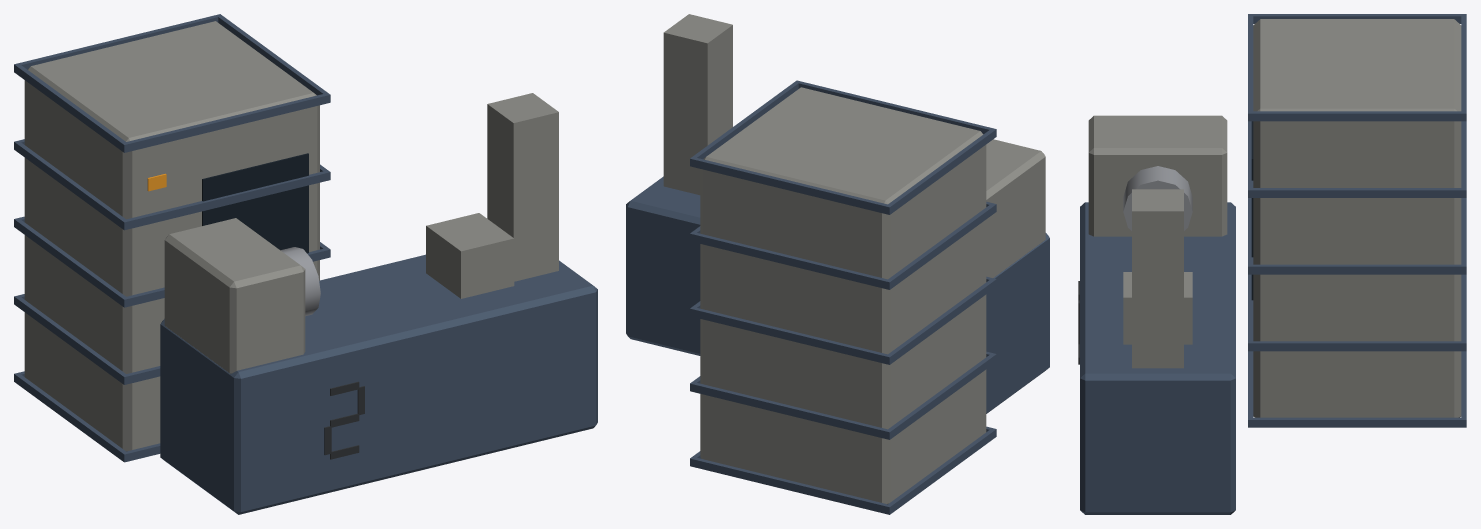
The model's file is ms1_fabricator.obj.
The picture shows the model from 3 angles, left to right: view 1: azimuth 30°, elevation 25°; view 2: azimuth 150°, elevation 25°; view 3: azimuth 270°, elevation 25°; orthographic projection. The views are drawn at different scales.
Parts seen in each view (by area): view 1: ms1_fabricator; view 2: ms1_fabricator; view 3: ms1_fabricator.
Part boxes in pixels (x1,y1,x2,y2): ms1_fabricator: (14, 14, 597, 514); ms1_fabricator: (626, 14, 1049, 514); ms1_fabricator: (1078, 14, 1466, 514).
Bounding box in the file's own units: 2.58 × 2 × 2.24.
